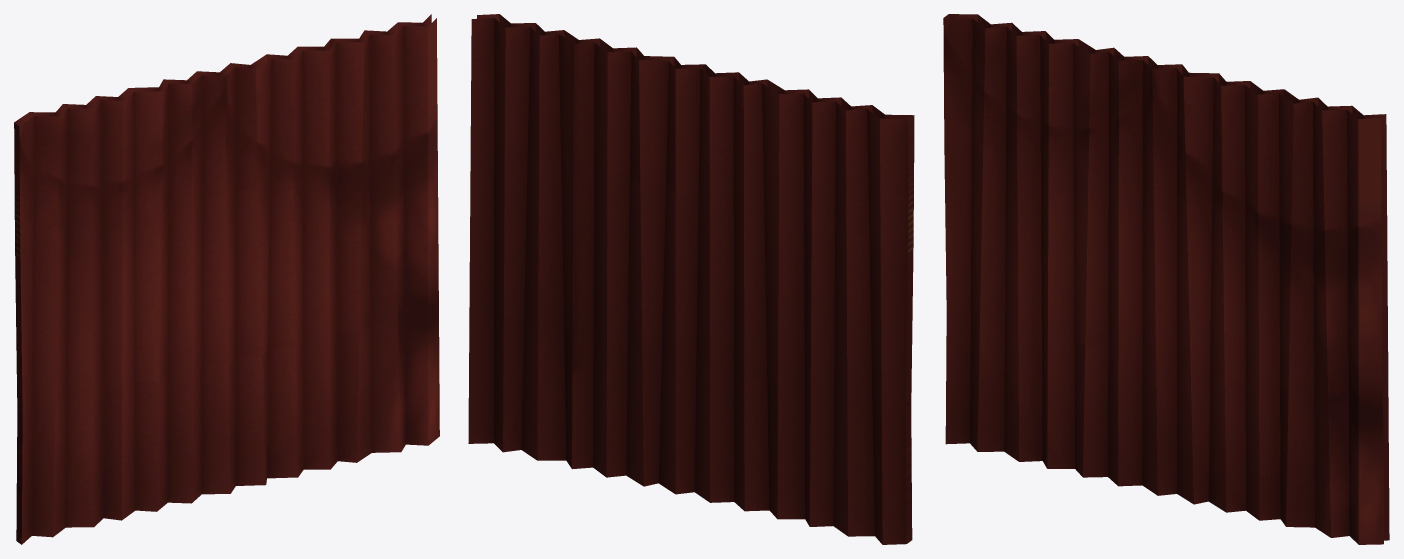
Rendered from EndLevelCurtains_Right.obj.
3 views of the same model, side by side, from view 1: azimuth 30°, elevation 25°; view 2: azimuth 150°, elevation 25°; view 3: azimuth 330°, elevation 25° (orthographic).
Parts seen in each view (by area): view 1: Model_EndLevelCurtains_Right; view 2: Model_EndLevelCurtains_Right; view 3: Model_EndLevelCurtains_Right.
Part boxes in pixels (left/top/right/bottom): Model_EndLevelCurtains_Right: left=14, top=14, right=439, bottom=544; Model_EndLevelCurtains_Right: left=468, top=14, right=914, bottom=544; Model_EndLevelCurtains_Right: left=943, top=14, right=1389, bottom=544.
Bounding box in the file's own units: 7.37 × 6.91 × 0.364.
1 material, 1 textured.
